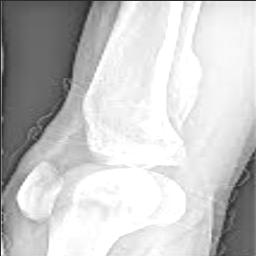cancer: (119, 43, 201, 136)
